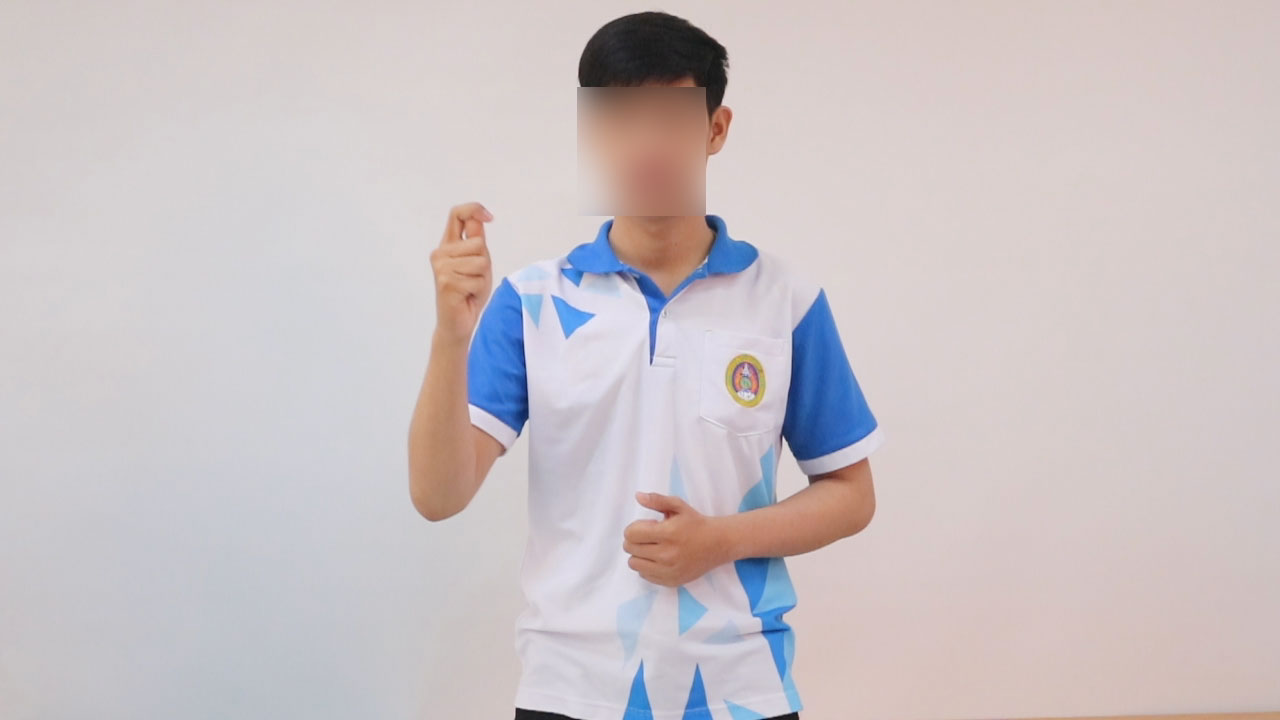or: (427, 189, 501, 359)
